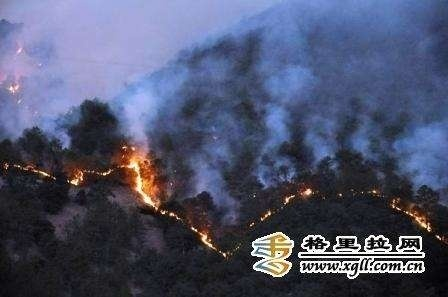fire: (0, 144, 241, 272), (371, 182, 445, 242), (0, 153, 102, 184), (255, 180, 318, 221)
